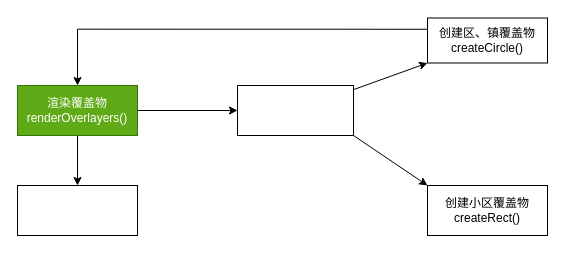
This 565x253 diagram has some shape labels left out. The shapes that lost their labels are listed below. From the top down, each one's centre as x and y in pixels, then its label:
pixel 295 110: 创建覆盖物 createOverlays()
pixel 77 210: 计算类型和缩放级别 getTypeAndZoom()
